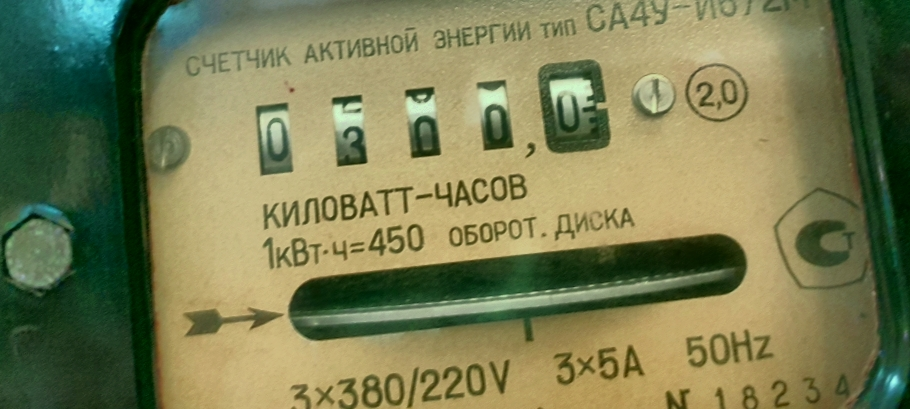0: (551, 86, 584, 137), (261, 112, 292, 166), (478, 100, 512, 149), (408, 110, 440, 160)
3: (336, 121, 369, 167)
screen: (231, 51, 621, 197)
